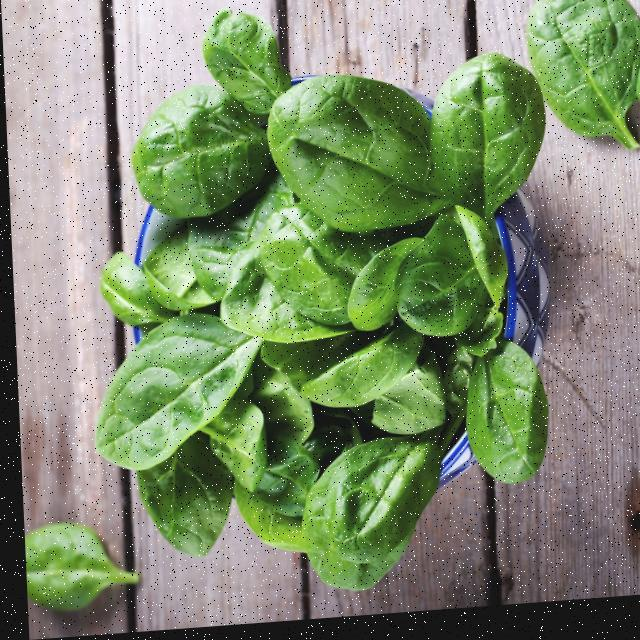Spinach: (63, 0, 564, 620), (512, 0, 640, 175)
